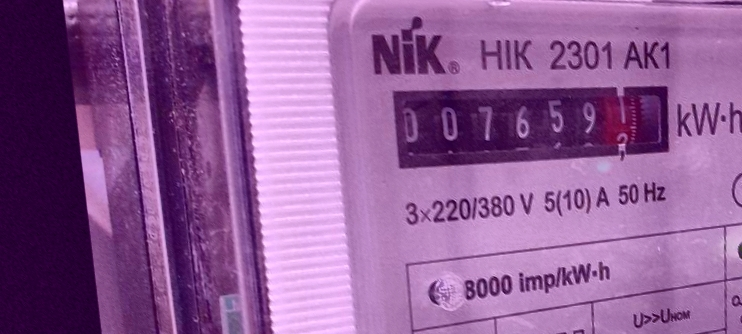0: (434, 99, 462, 143), (395, 101, 422, 144)
1: (611, 92, 632, 127)
5: (543, 94, 567, 134)
6: (508, 99, 534, 140)
7: (473, 100, 497, 142)
9: (577, 97, 599, 135)
screen: (379, 49, 684, 201)
